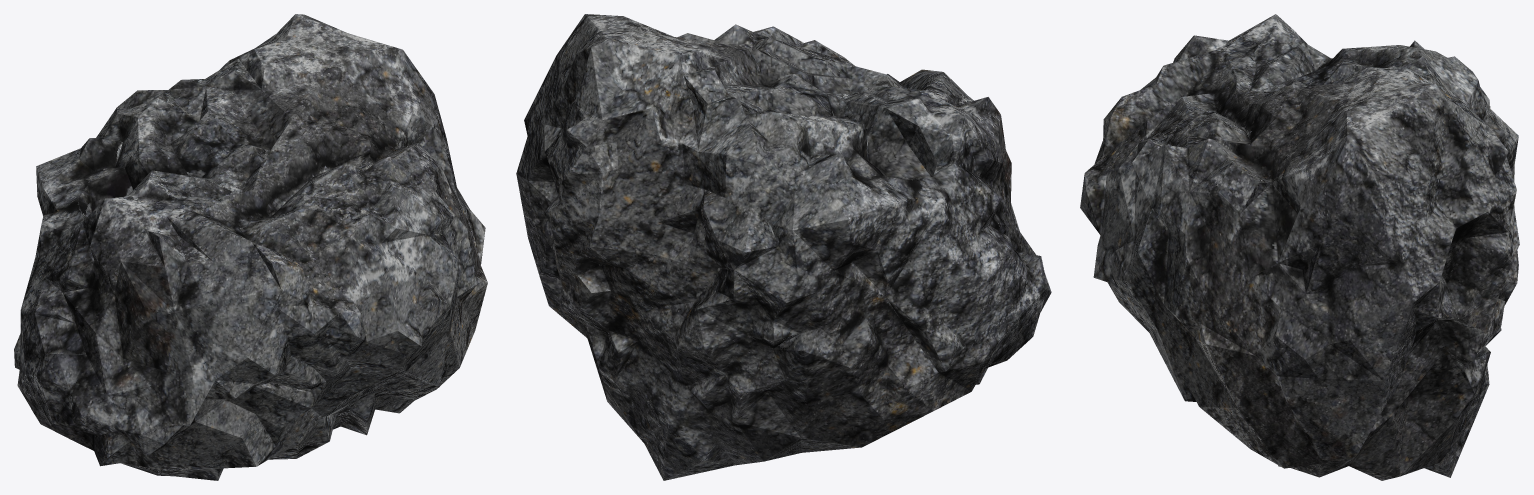
File: MIL15307-0.fbx
3 renders of one model, left to right at view 1: azimuth 30°, elevation 25°; view 2: azimuth 150°, elevation 25°; view 3: azimuth 270°, elevation 25°, orthographic. The views are drawn at different scales.
Parts seen in each view (by area): view 1: MIL15307-0; view 2: MIL15307-0; view 3: MIL15307-0.
Part boxes in pixels (x1,y1,x2,y2): MIL15307-0: [14, 14, 487, 480]; MIL15307-0: [516, 14, 1051, 480]; MIL15307-0: [1080, 14, 1519, 480].
Bounding box in the file's own units: 50.84 × 42.83 × 40.15.
